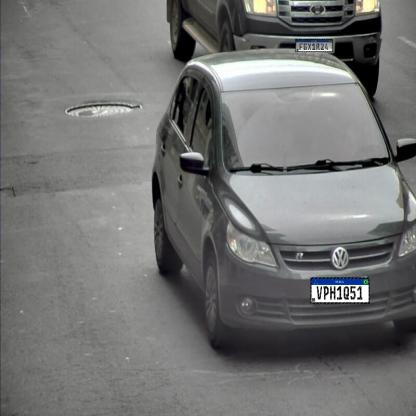PlacaM: (310, 277, 370, 304), (295, 39, 333, 52)
